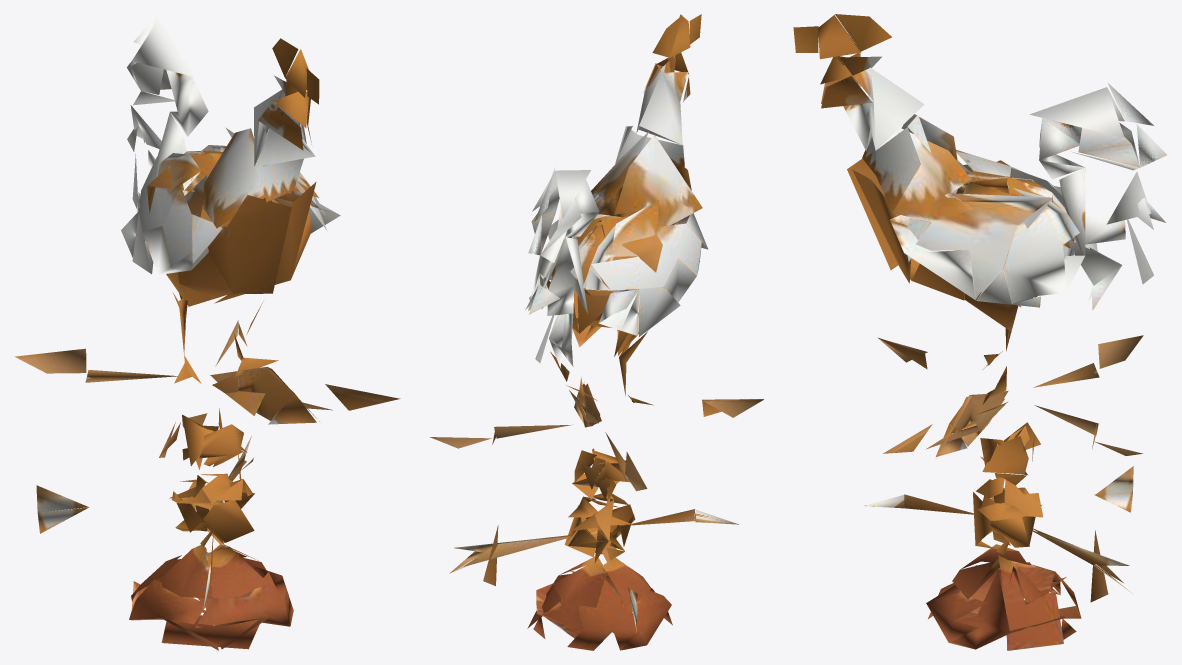
File: keepsake-weathercock.lod1.glb
The picture shows the model from 3 angles, left to right: view 1: azimuth 30°, elevation 25°; view 2: azimuth 150°, elevation 25°; view 3: azimuth 270°, elevation 25°; orthographic projection. The views are drawn at different scales.
Parts seen in each view (by area): view 1: keepsake-weathercock_lod1; view 2: keepsake-weathercock_lod1; view 3: keepsake-weathercock_lod1.
Part boxes in pixels (x1,y1,x2,y2): keepsake-weathercock_lod1: [15, 15, 400, 650]; keepsake-weathercock_lod1: [430, 14, 763, 650]; keepsake-weathercock_lod1: [793, 14, 1166, 650].
Size of the model in its own units: 0.4157 by 1.01 by 0.5619.
Materials: 1 (1 with a texture image).
